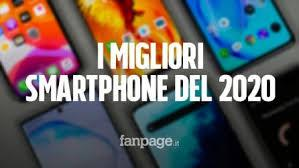Smartphone: (75, 0, 194, 70), (131, 103, 258, 168), (170, 0, 293, 62), (0, 0, 79, 94), (25, 105, 135, 168), (240, 78, 299, 168)
